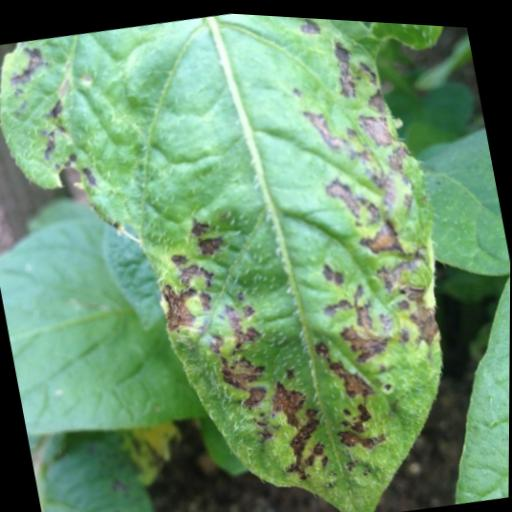Early Blight: (0, 0, 493, 512)
